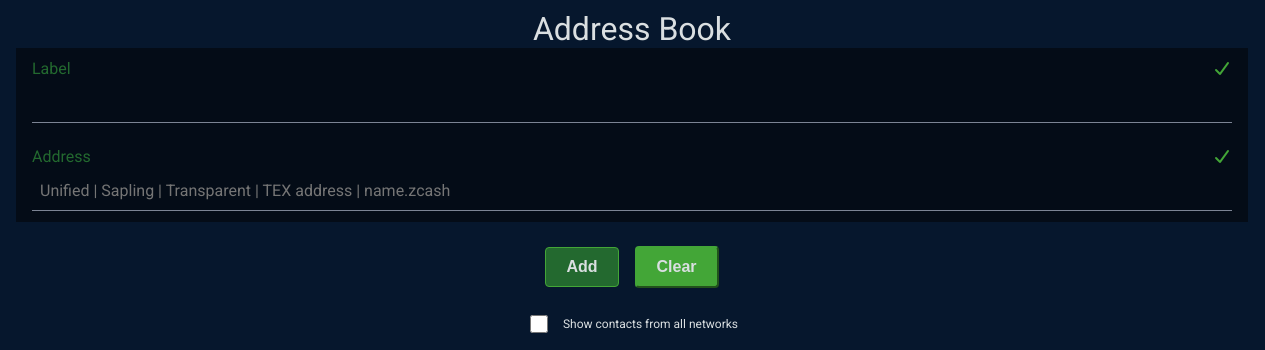
Test case: AddressBook › recognizes a sapling address and shows 'Sapling' tag
Type "zs1valid" into the field labelled "Unified | Sapling | Transparent | TEX address | name.zcash" at (632, 190), box left=32, top=170, right=1232, bottom=211
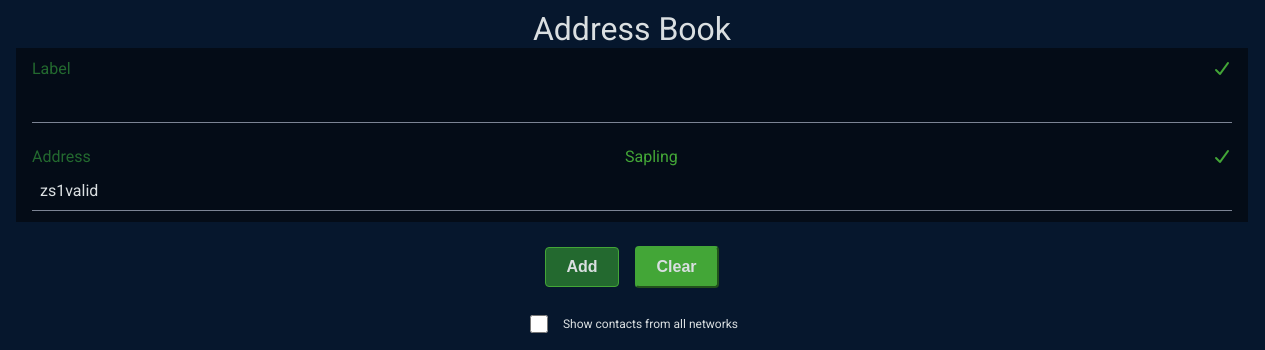
Expected: the text "Sapling" is shown, left=625, top=147, right=678, bottom=166
